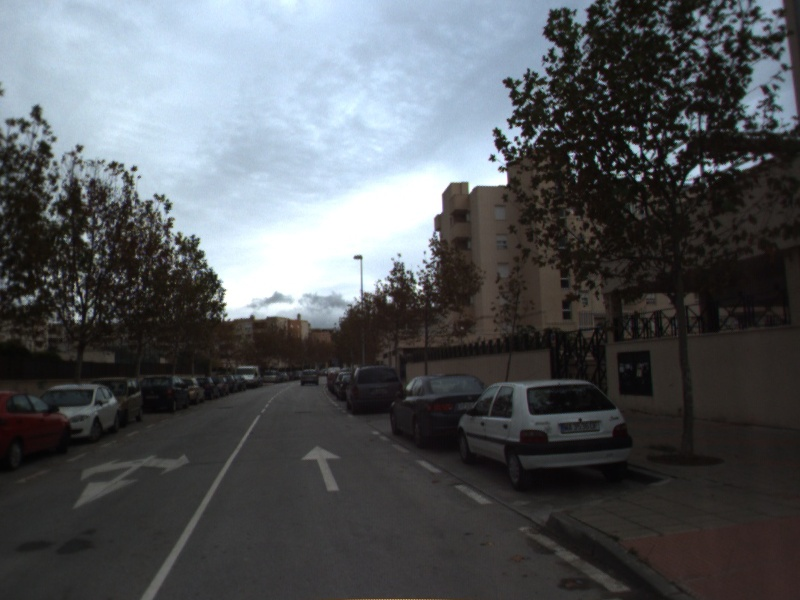STRAIGHT: (299, 443, 343, 493)
